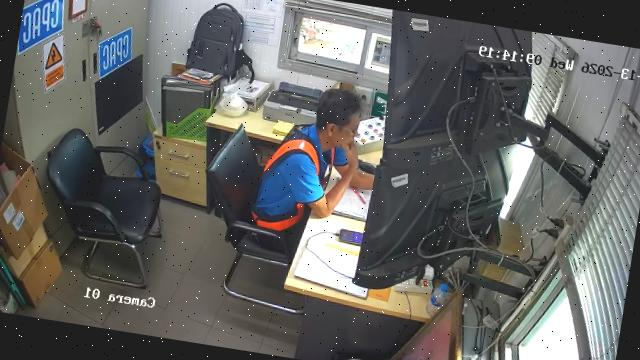Head: (309, 84, 366, 152)
People: (251, 89, 373, 251)
Phone: (338, 229, 362, 245)
